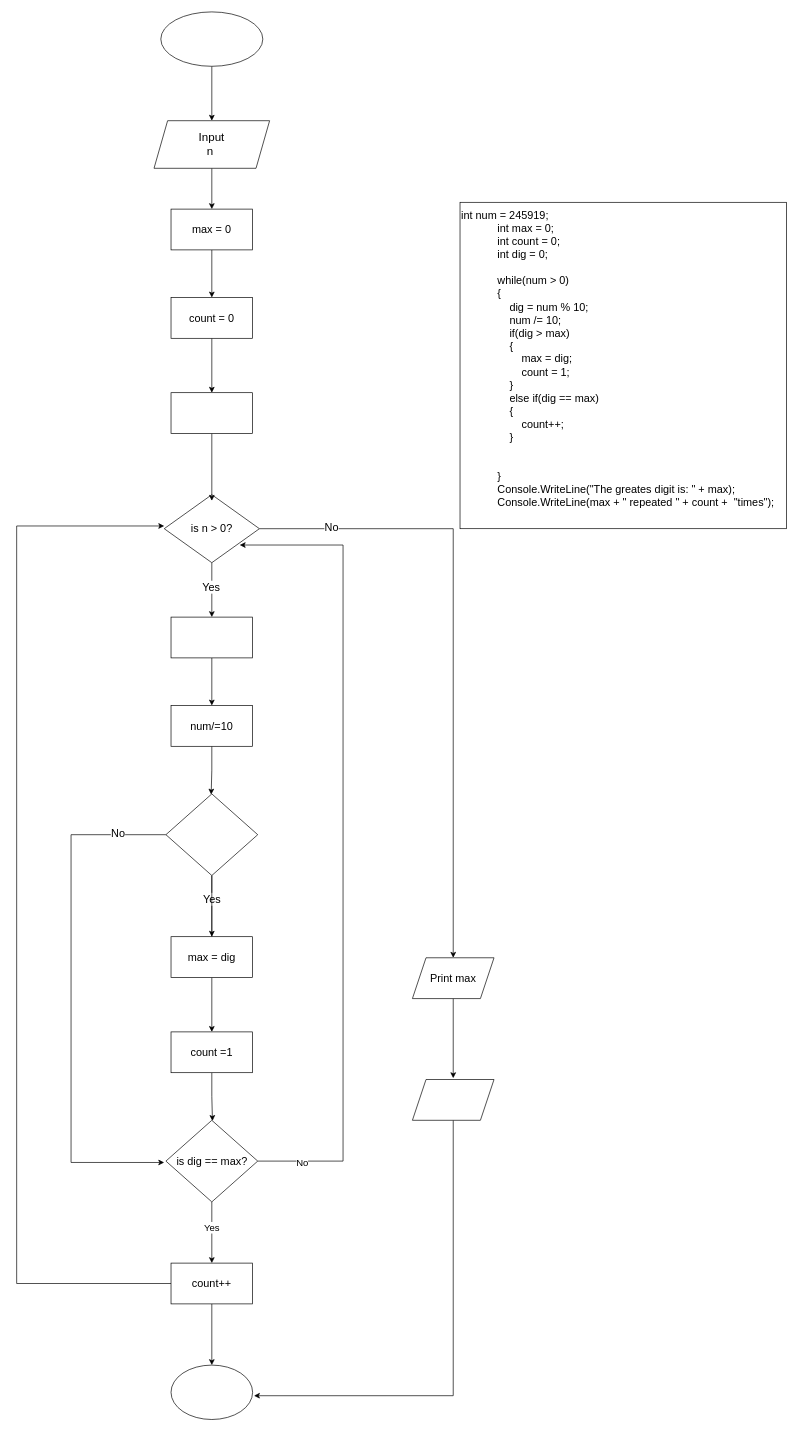
Some shapes in this 798 by 1431 pixel diagram are drawn without their labels. Each missing label, with the centre of its shape:
"dig = 0" goes at [211,413].
"dig = n % 10" goes at [211,637].
"End" goes at [211,1392].
"is dig > max?" goes at [211,834].
"Print count" goes at [453,1099].
"start" goes at [211,38].
